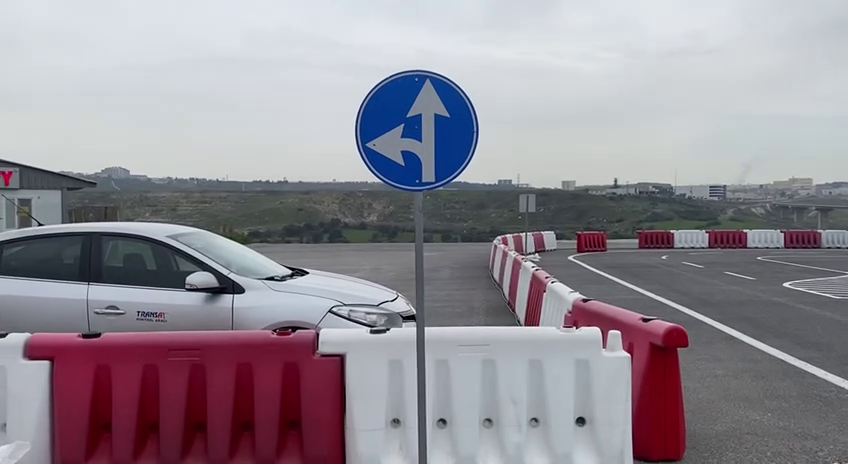forwardAndLeft: (353, 68, 482, 195)
